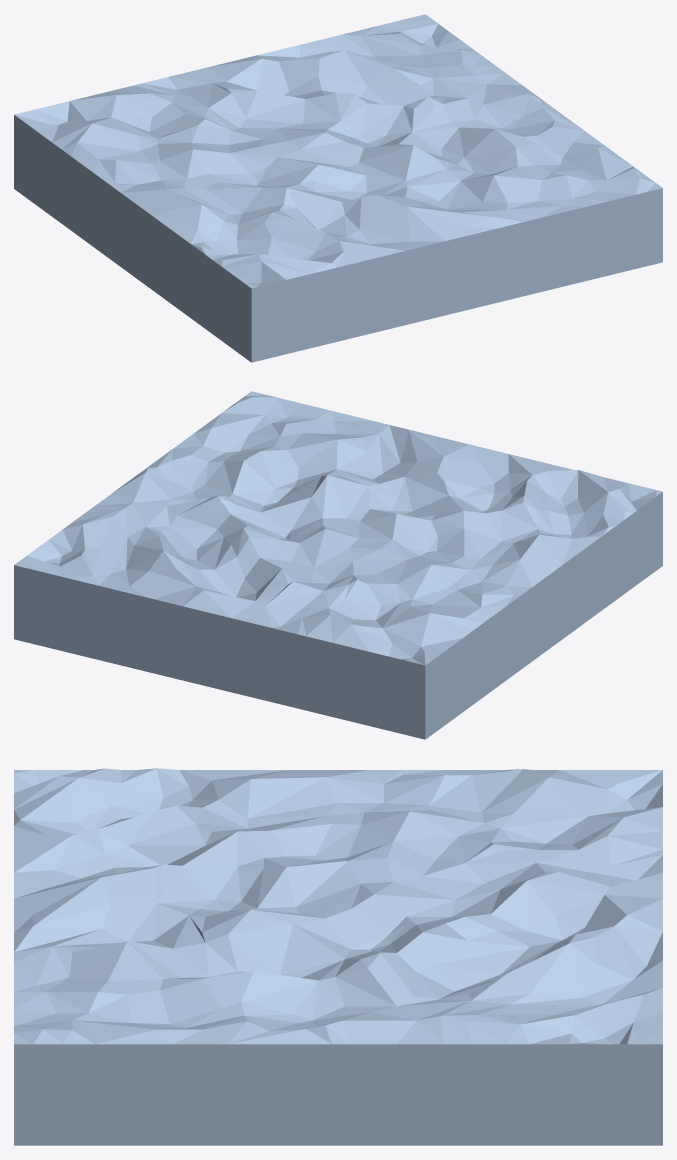
Rendered from Water_Night 1.fbx.
The picture shows the model from 3 angles, top to bottom: view 1: azimuth 30°, elevation 25°; view 2: azimuth 150°, elevation 25°; view 3: azimuth 270°, elevation 25°; orthographic projection. The views are drawn at different scales.
Visible parts, largest first — view 1: pPlane1; view 2: pPlane1; view 3: pPlane1.
Part boxes in pixels (x1,y1,x2,y2): pPlane1: (14,14,662,362); pPlane1: (14,391,662,739); pPlane1: (14,768,662,1145).
Bounding box in the file's own units: 12 × 2.6 × 12.
